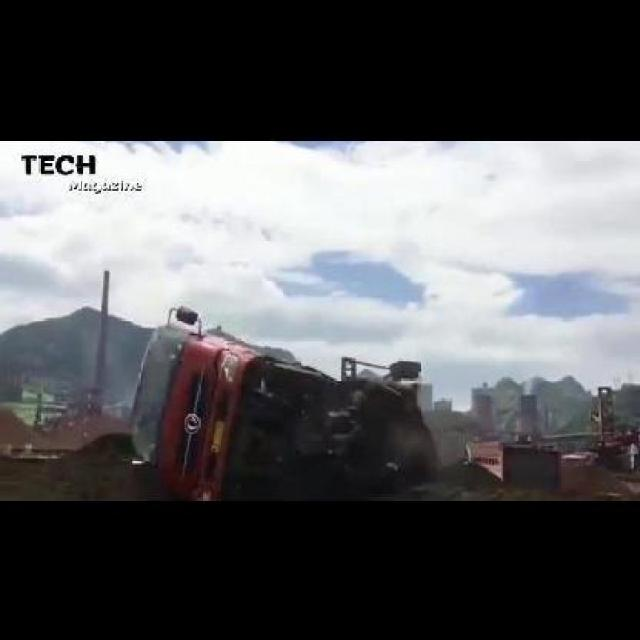accident: (122, 290, 438, 498)
